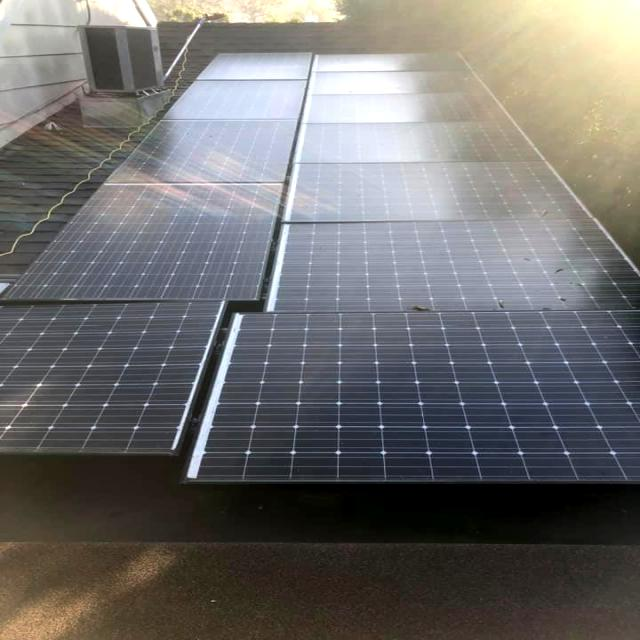dust: (224, 330, 433, 460), (494, 351, 640, 473), (5, 343, 173, 441)
